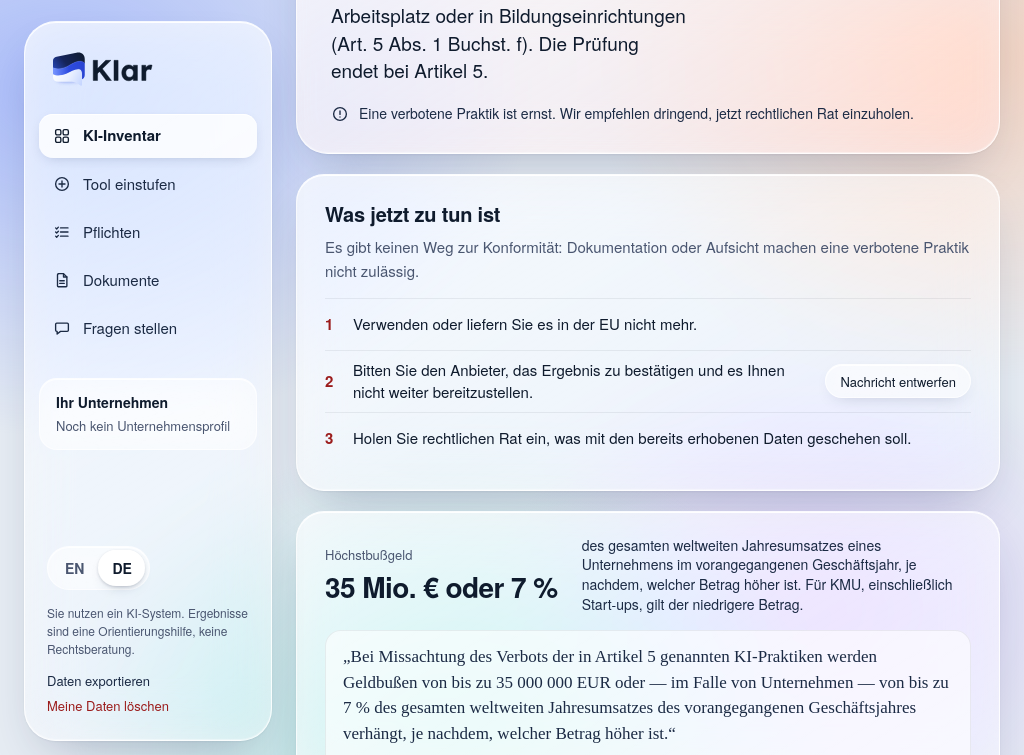
Test case: A recorded prohibited result (de) › copies the message as plain text, naming the tool, for the user’s own email
(page scrolled)
Click the button "Nachricht entwerfen" at (898, 381), box top-left (826, 364), bottom-right (971, 398)
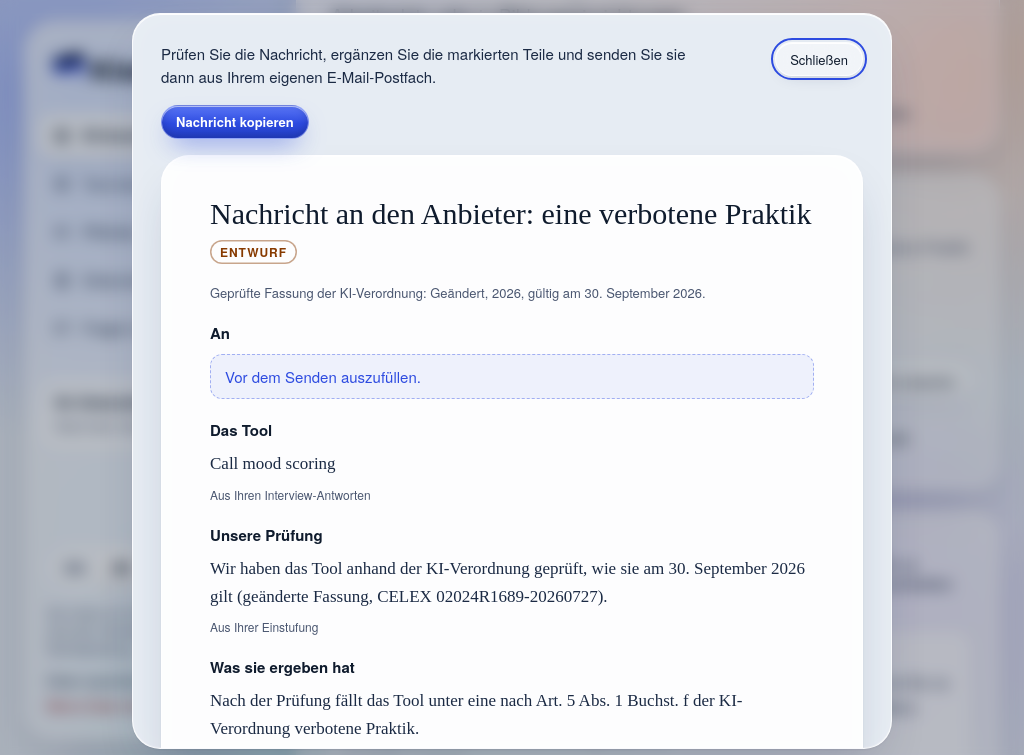
Click the button "Nachricht kopieren" at (235, 122), box top-left (161, 104), bottom-right (309, 138)
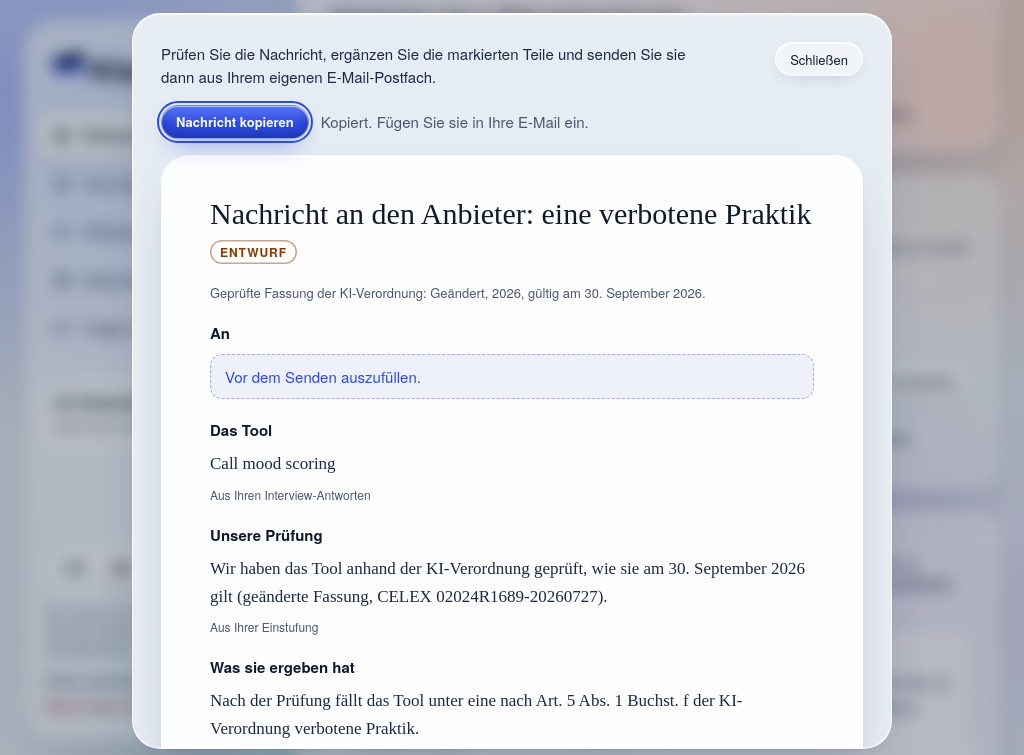
Expected: the text "Kopiert. Fügen Sie sie in Ihre E-Mail ein." is shown, top-left (321, 110), bottom-right (589, 133)
